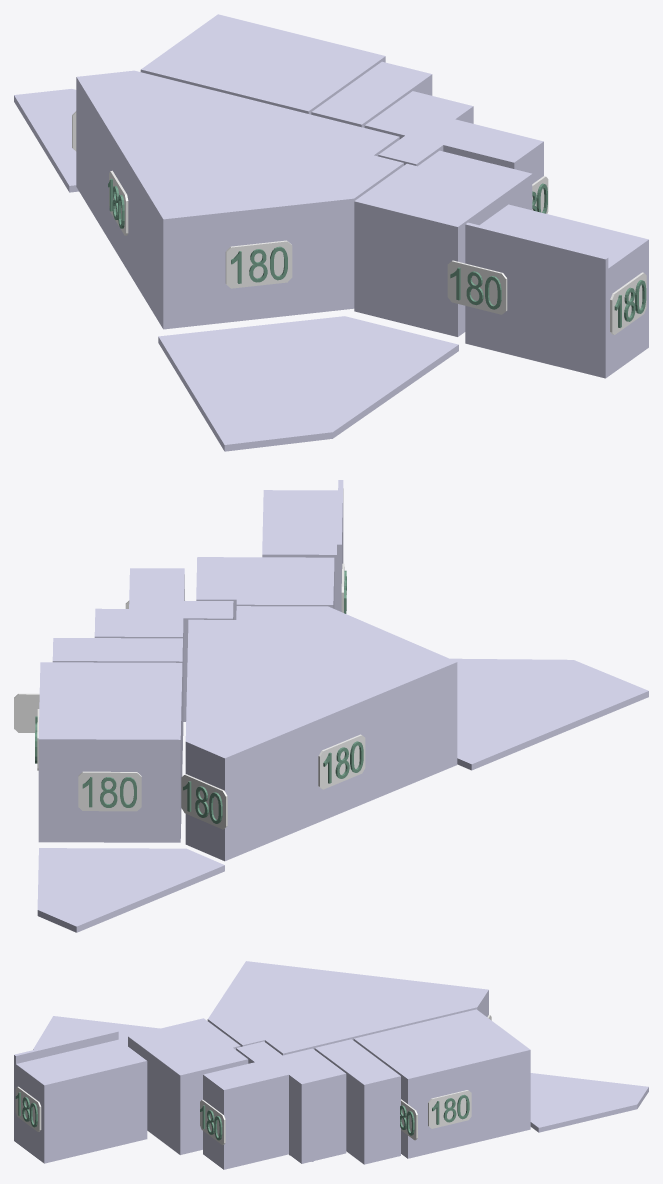
The picture shows the model from 3 angles, top to bottom: view 1: azimuth 30°, elevation 25°; view 2: azimuth 150°, elevation 25°; view 3: azimuth 270°, elevation 25°; orthographic projection. The views are drawn at different scales.
Visible parts, largest first — view 1: g_0, g_7, g_5, g_4, g_1, g_3, g_2, g_6, g_11, g_31, g_15; view 2: g_0, g_1, g_7, g_6, g_4, g_3, g_5, g_2, g_39, g_43, g_23, g_35; view 3: g_0, g_1, g_3, g_5, g_4, g_2, g_6, g_7, g_19, g_15, g_27, g_35.
Part boxes in pixels (x1,y1,x2,y2): g_0: [76, 70, 403, 329]; g_7: [158, 316, 458, 451]; g_5: [465, 204, 648, 378]; g_4: [354, 150, 532, 336]; g_1: [140, 14, 385, 114]; g_3: [364, 91, 543, 183]; g_2: [311, 61, 432, 127]; g_6: [14, 89, 78, 192]; g_11: [225, 240, 292, 288]; g_31: [447, 260, 507, 314]; g_15: [610, 272, 646, 334]; g_0: [185, 606, 457, 861]; g_1: [38, 662, 182, 842]; g_7: [450, 658, 648, 770]; g_6: [37, 848, 224, 932]; g_4: [196, 557, 334, 619]; g_3: [94, 568, 233, 735]; g_5: [262, 480, 343, 611]; g_2: [52, 638, 182, 763]; g_39: [78, 771, 141, 811]; g_43: [318, 734, 365, 789]; g_23: [181, 774, 227, 829]; g_35: [14, 693, 39, 732]; g_0: [207, 961, 488, 1055]; g_1: [353, 1009, 530, 1158]; g_3: [203, 1041, 346, 1169]; g_5: [14, 1030, 147, 1163]; g_4: [128, 1018, 248, 1154]; g_2: [314, 1039, 400, 1164]; g_6: [530, 1073, 648, 1132]; g_7: [33, 1016, 159, 1049]; g_19: [428, 1090, 471, 1128]; g_15: [15, 1086, 41, 1131]; g_27: [200, 1099, 225, 1144]; g_35: [401, 1099, 417, 1140].
Bounding box in the file's own units: 10.48 × 2.85 × 18.01.
